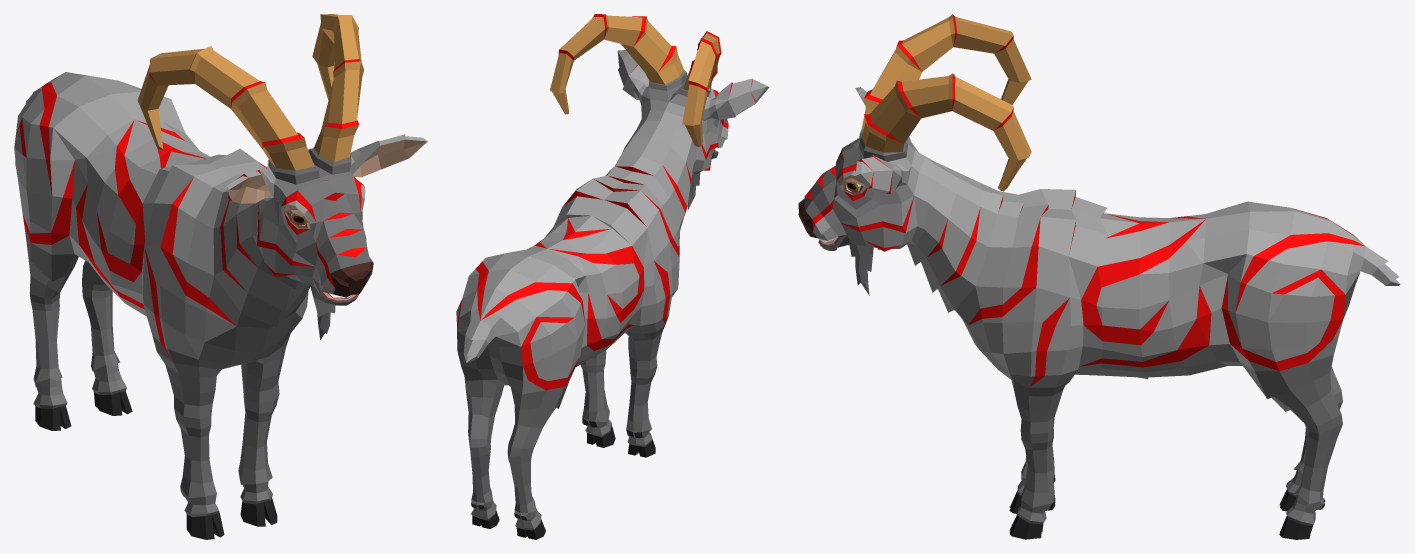
File: LowPoly_Goat_Male_10.obj
The picture shows the model from 3 angles, left to right: view 1: azimuth 30°, elevation 25°; view 2: azimuth 150°, elevation 25°; view 3: azimuth 270°, elevation 25°; orthographic projection. The views are drawn at different scales.
Parts seen in each view (by area): view 1: Goat_Male_10_Cube.019; view 2: Goat_Male_10_Cube.019; view 3: Goat_Male_10_Cube.019.
Part boxes in pixels (left/top/right/bottom): Goat_Male_10_Cube.019: left=14, top=14, right=427, bottom=539; Goat_Male_10_Cube.019: left=456, top=14, right=769, bottom=539; Goat_Male_10_Cube.019: left=798, top=14, right=1400, bottom=539.
Size of the model in its own units: 0.4074 by 1.03 by 1.18.
